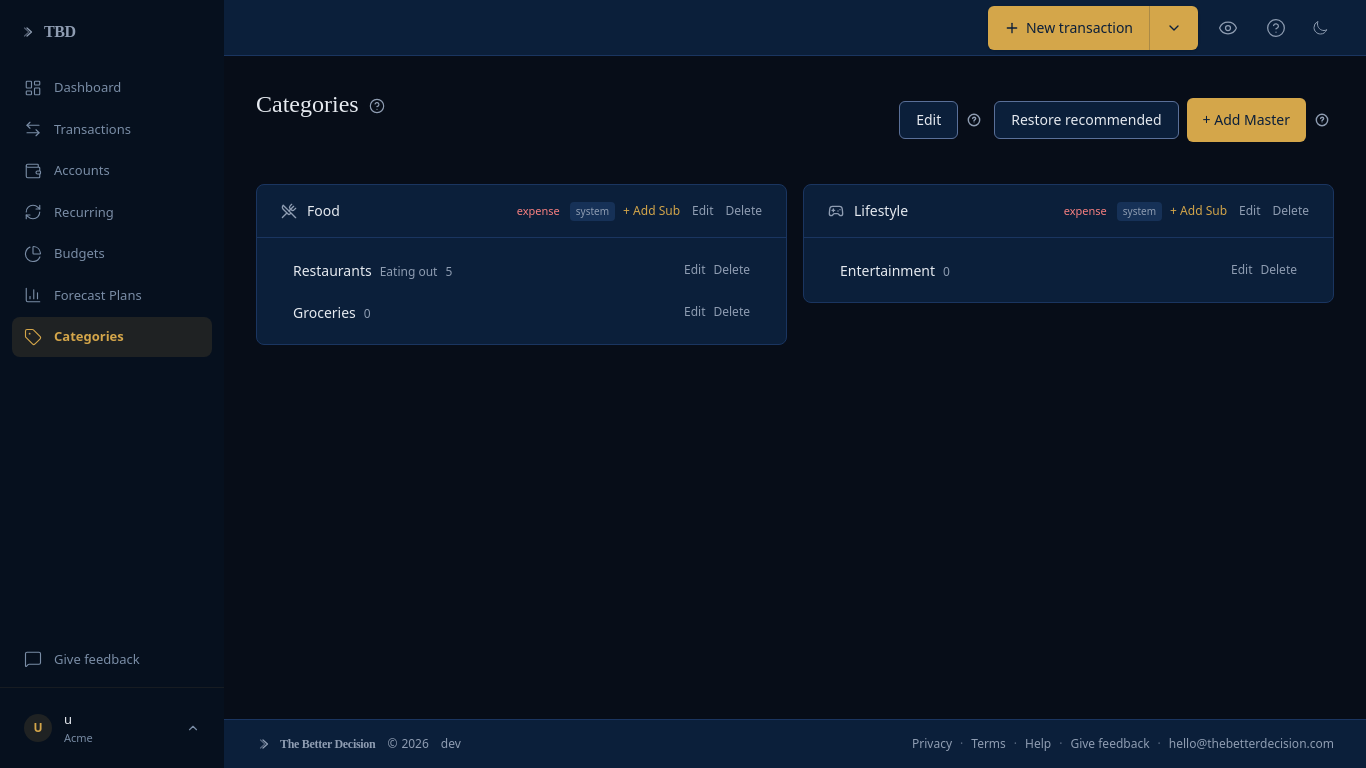
CategoriesPage -C2 batch delete › editing with empty description sends description: null AND the cleared value renders post-save
Expected: the text "Eating out" is shown, [380,263,437,280]
Click the button "Edit" in the row of "Eating out".
click(695, 270)  # box [684,262,706,278]
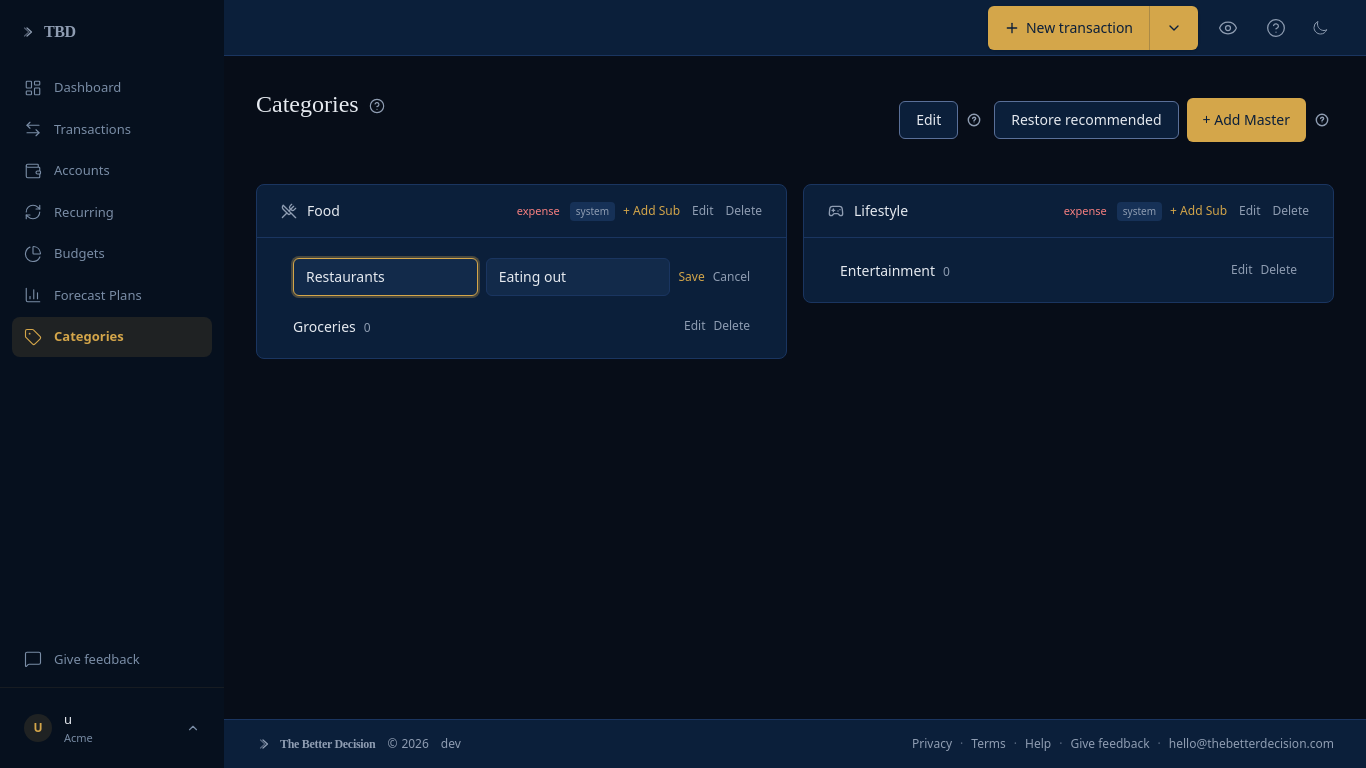
Expected: the 2nd field with placeholder "Hint / description" holds "Eating out"
Clear the 2nd field with placeholder "Hint / description" at (578,277), box [486,258,670,296]
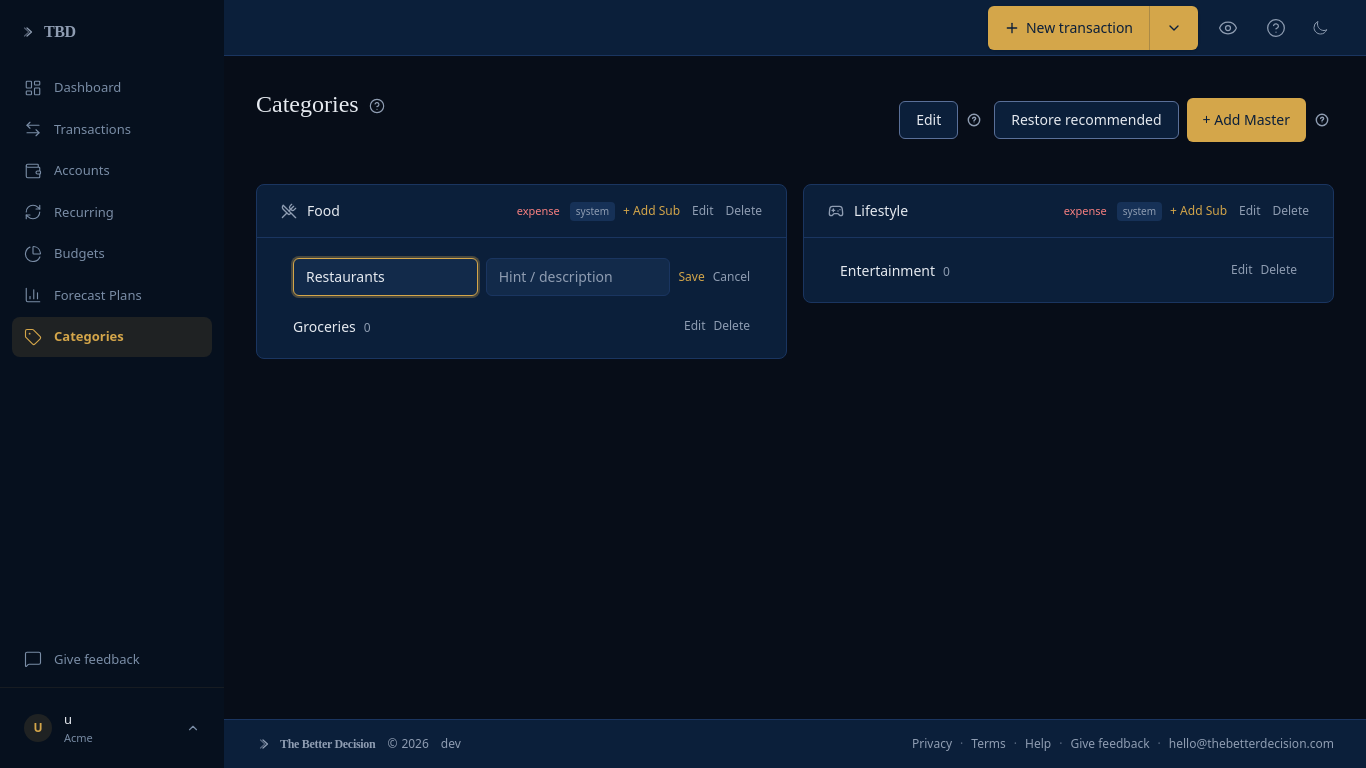
Click the button "Save".
click(692, 277)  # box [678,269,705,285]
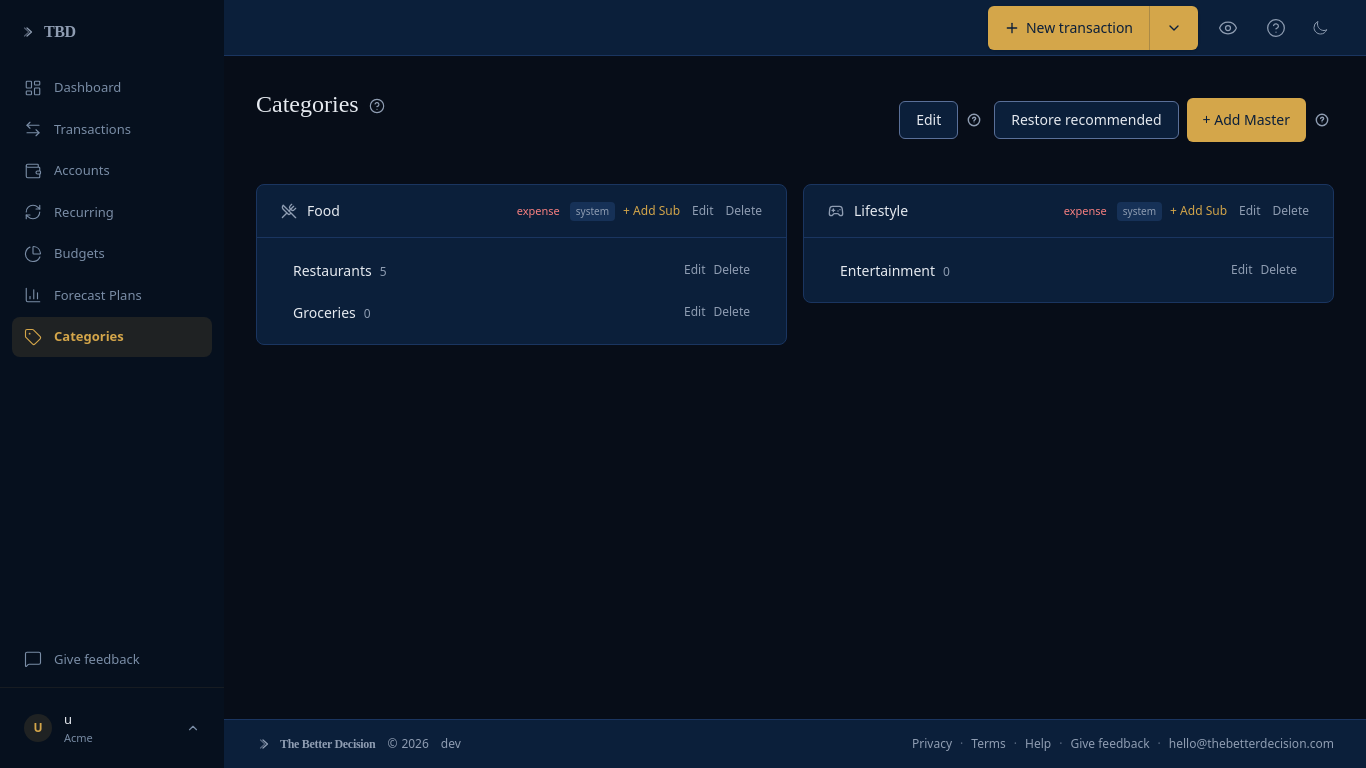
Expected: the text "Eating out" is not shown
Expected: the text "Restaurants" is shown, [293,261,372,280]
